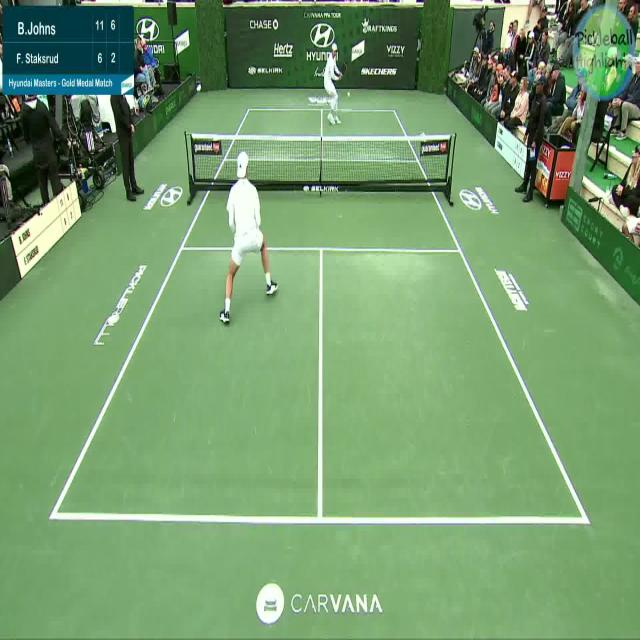ball: (346, 86, 353, 105)
